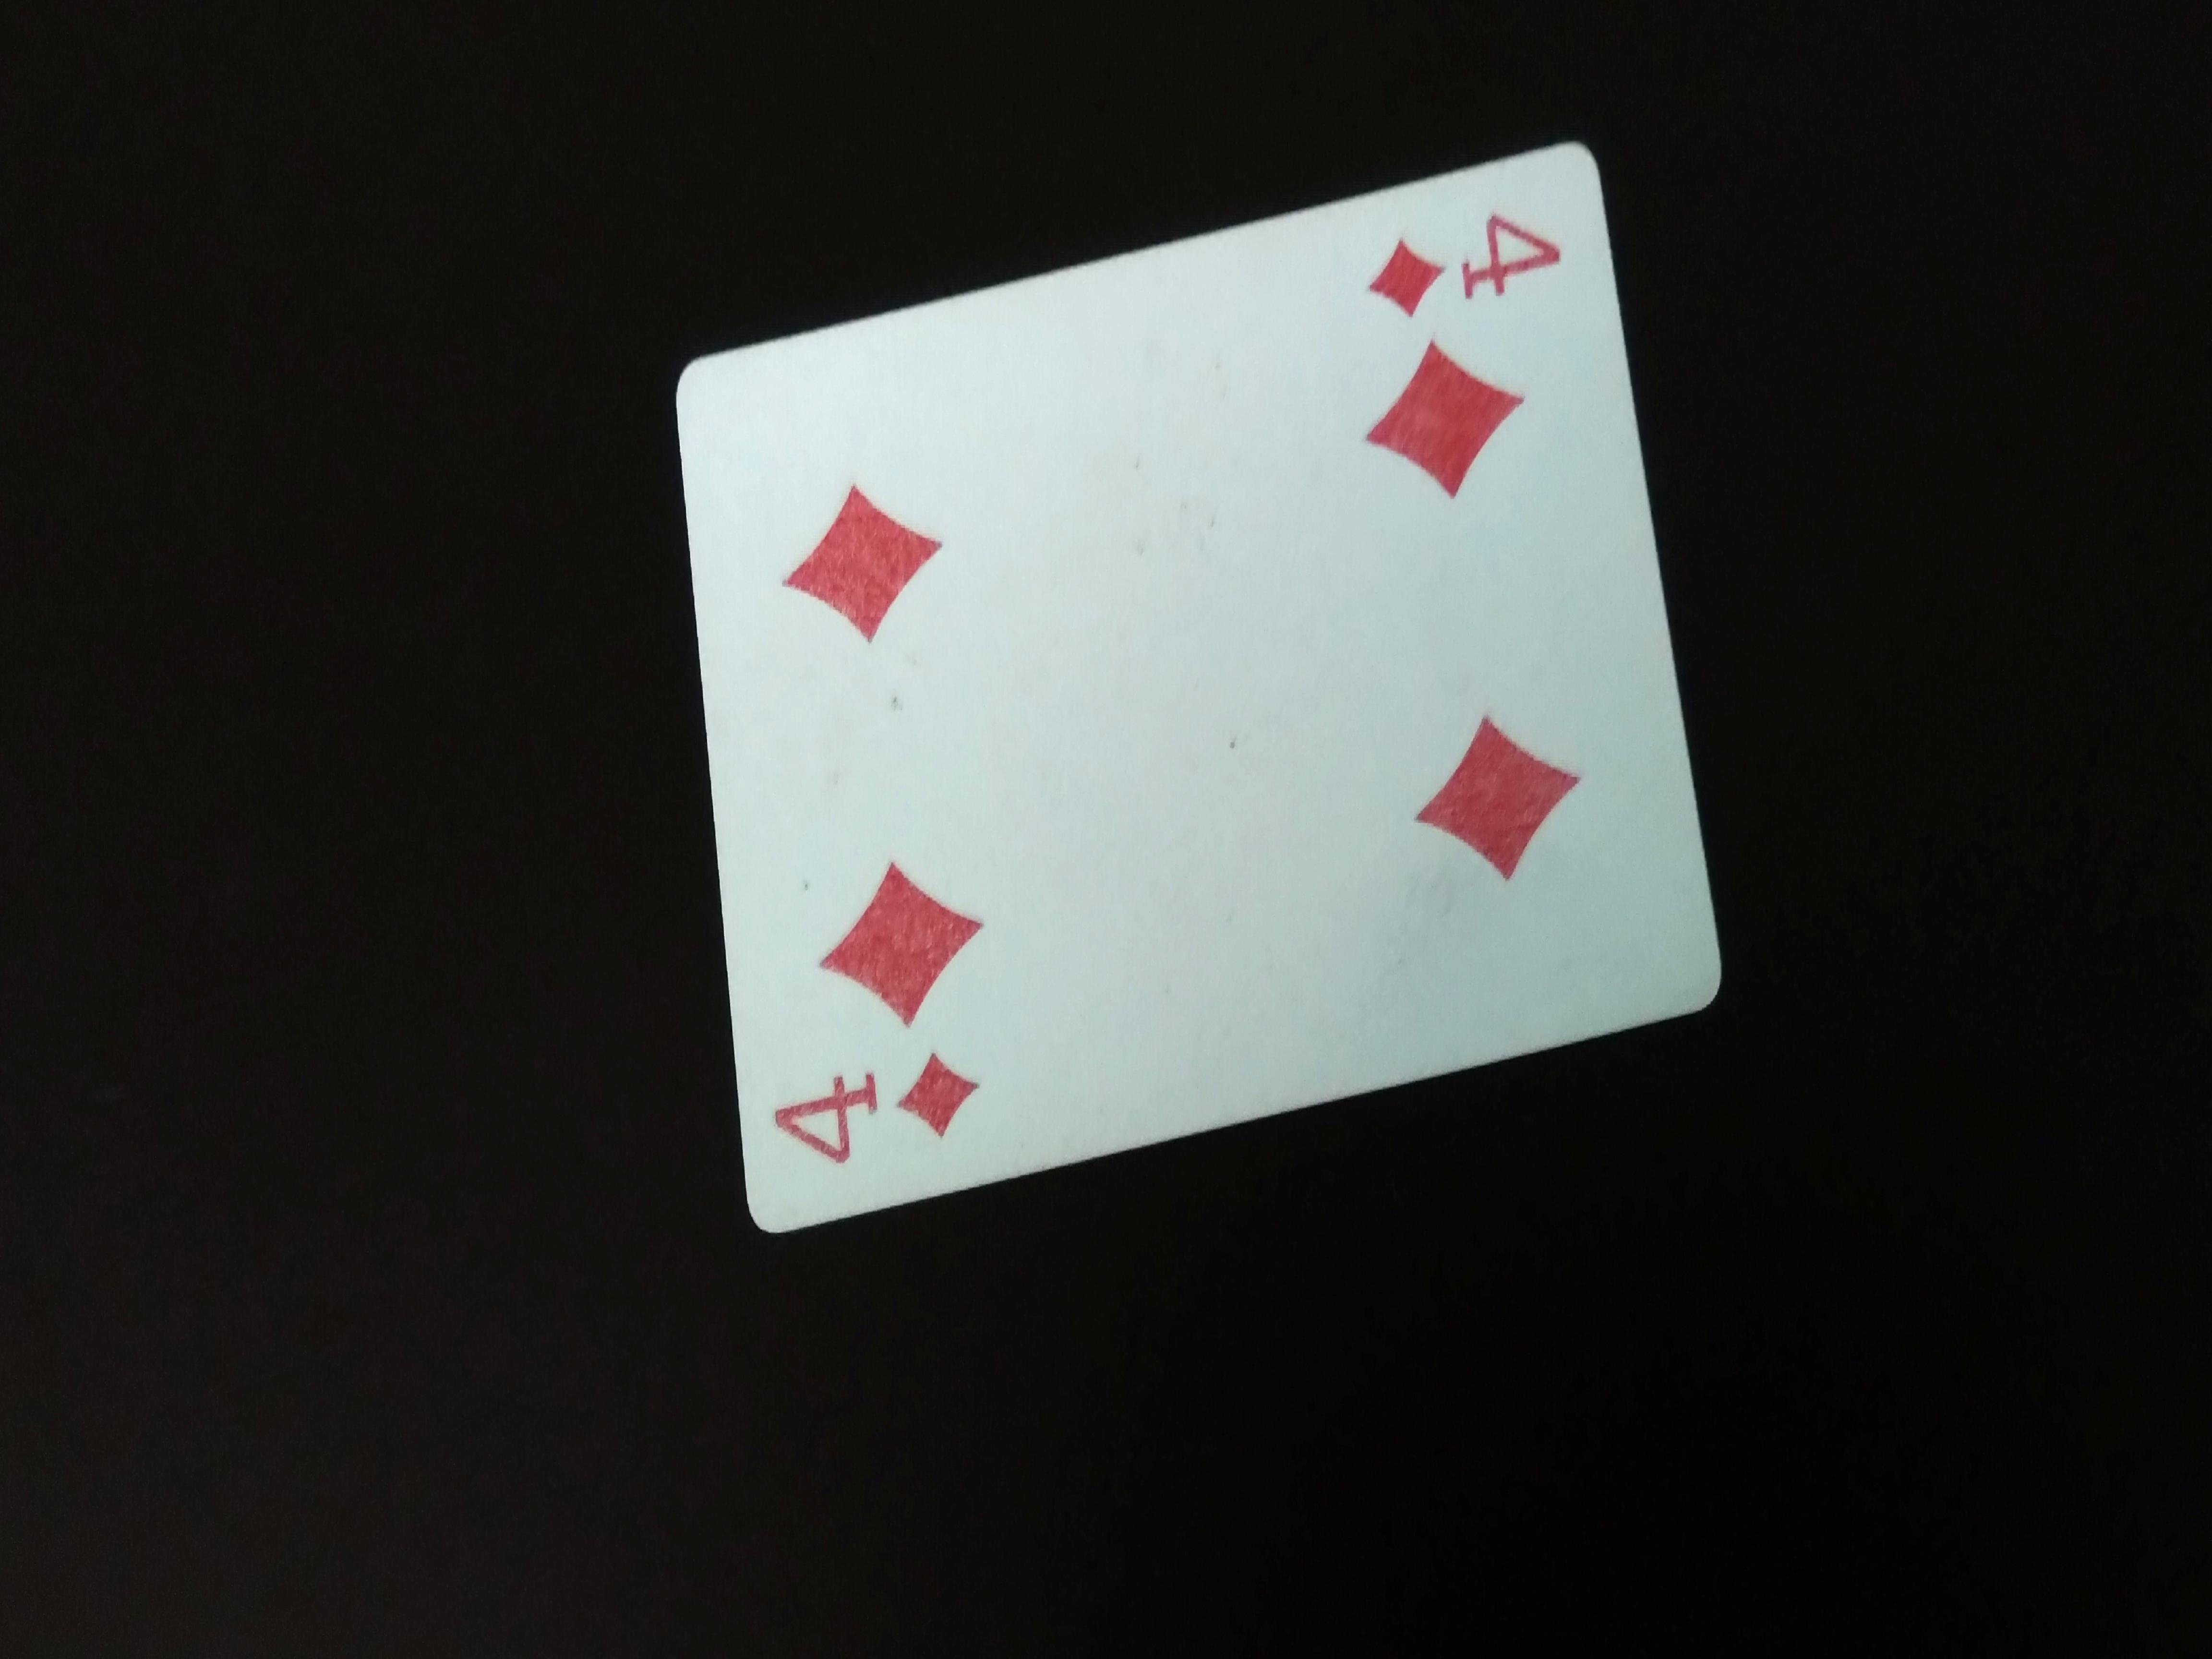4D: (1367, 200, 1571, 321)
